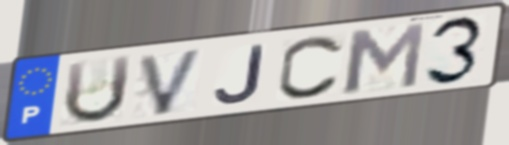3: (418, 15, 489, 87)
C: (275, 33, 347, 101)
J: (212, 42, 268, 105)
M: (341, 20, 429, 96)
U: (60, 52, 135, 127)
V: (136, 45, 208, 119)
